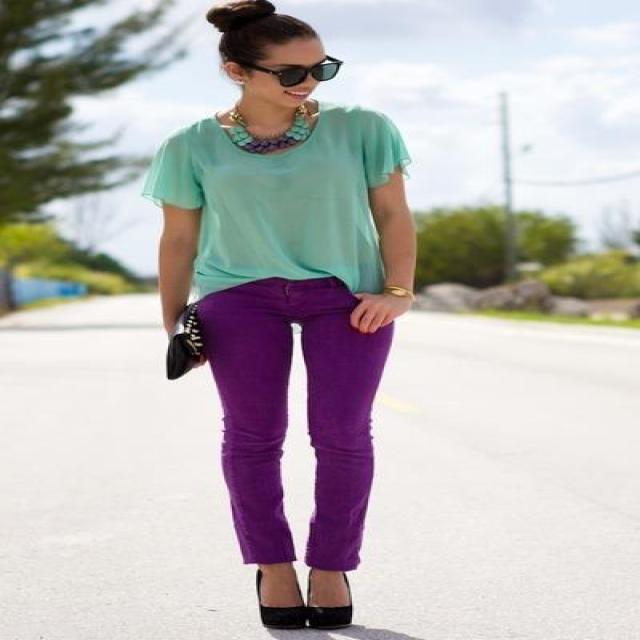bag: (167, 320, 210, 379)
pants: (202, 276, 392, 575)
shirt: (152, 108, 410, 301)
shoe: (259, 598, 352, 630)
sunglass: (261, 45, 331, 86)
